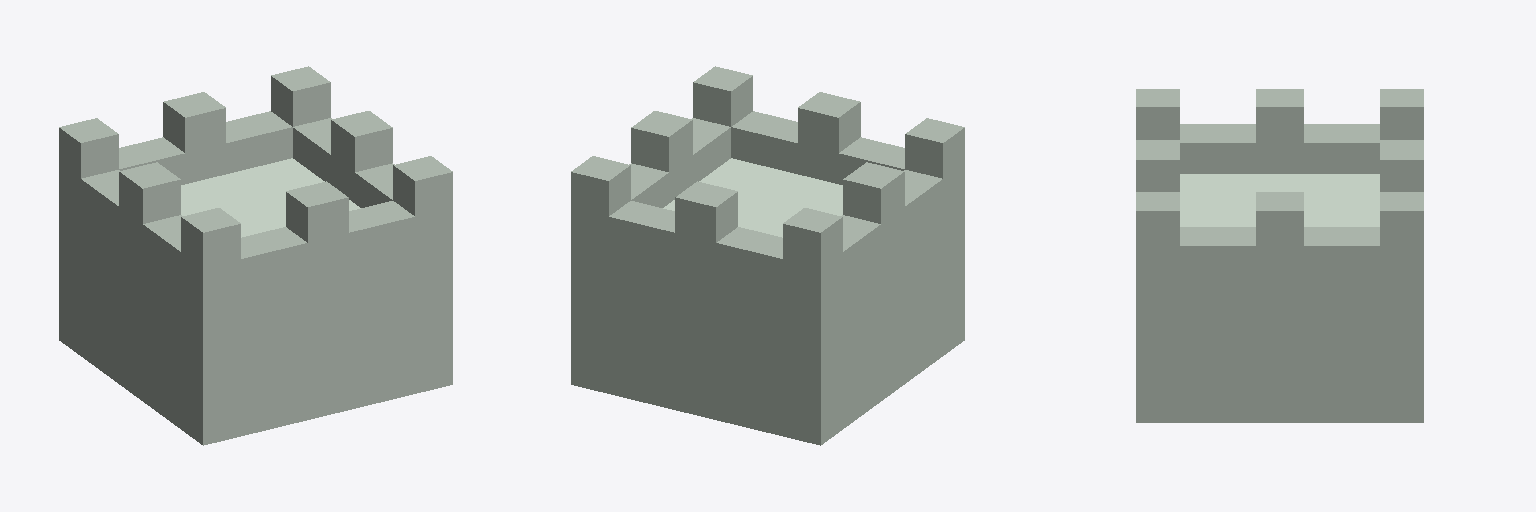
Rendered from tile_025.obj.
3 views of the same model, side by side, from view 1: azimuth 30°, elevation 25°; view 2: azimuth 150°, elevation 25°; view 3: azimuth 270°, elevation 25° (orthographic).
Parts seen in each view (by area): view 1: tile_025; view 2: tile_025; view 3: tile_025.
Boxes of the visible parts, x1,y1,x2,y2 form: tile_025: [59, 66, 452, 445]; tile_025: [571, 66, 964, 445]; tile_025: [1136, 89, 1423, 422].
Bounding box in the file's own units: 0.5901 × 0.48 × 0.5901.